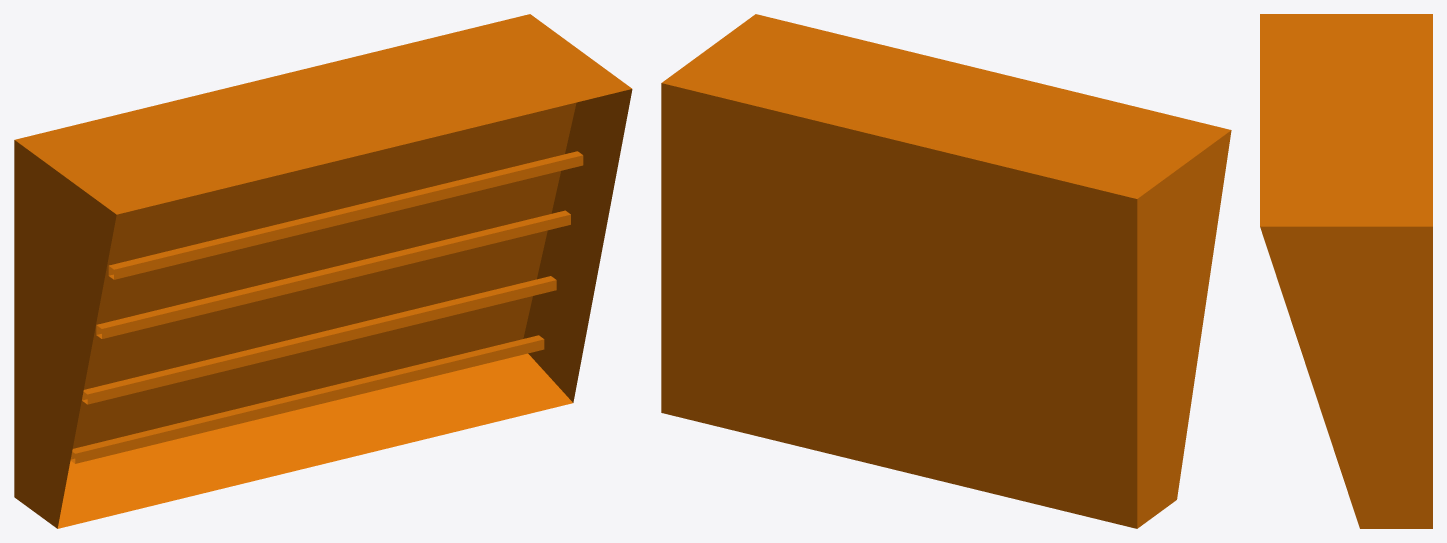
The model's file is lamp_EX_Gate.FBX.
The picture shows the model from 3 angles, left to right: view 1: azimuth 30°, elevation 25°; view 2: azimuth 150°, elevation 25°; view 3: azimuth 270°, elevation 25°; orthographic projection. The views are drawn at different scales.
Visible parts, largest first — view 1: Lamp_EX_Gate; view 2: Lamp_EX_Gate; view 3: Lamp_EX_Gate.
Part boxes in pixels (left/top/right/bottom): Lamp_EX_Gate: left=14, top=14, right=632, bottom=528; Lamp_EX_Gate: left=661, top=14, right=1231, bottom=528; Lamp_EX_Gate: left=1260, top=14, right=1432, bottom=528.
Bounding box in the file's own units: 53.08 × 18.23 × 35.17.
